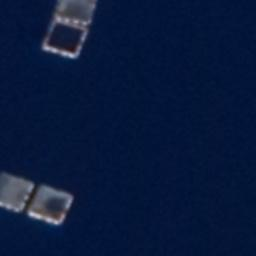square_cover: (25, 181, 77, 231), (1, 165, 36, 217), (50, 1, 101, 26)
square_solid: (38, 18, 91, 63)
